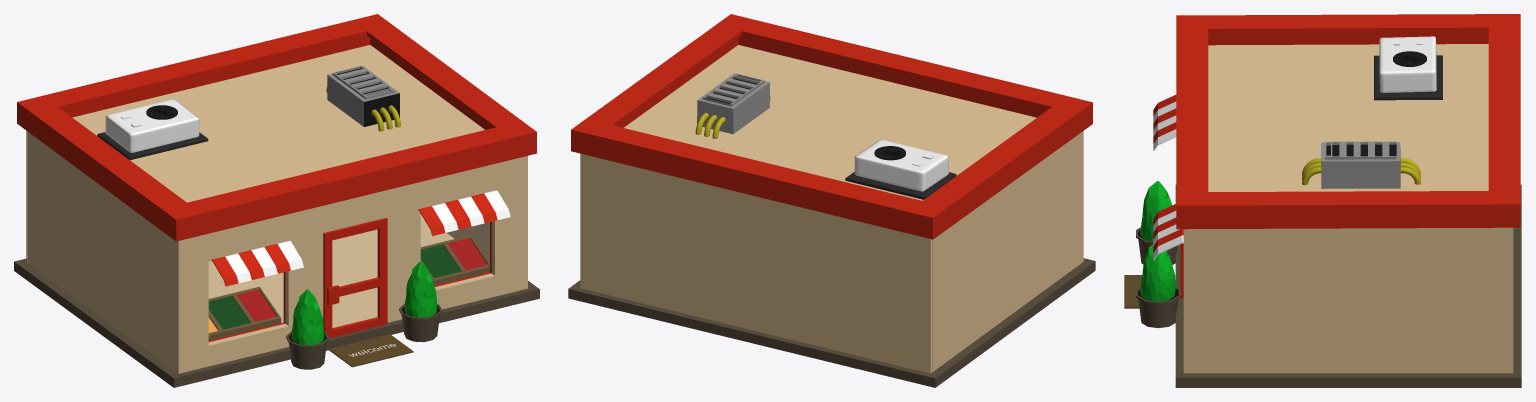
The model's file is Market.fbx.
3 renders of one model, left to right at view 1: azimuth 30°, elevation 25°; view 2: azimuth 150°, elevation 25°; view 3: azimuth 270°, elevation 25°, orthographic. The views are drawn at different scales.
Parts seen in each view (by area): view 1: Box001, Box002, Box004, Box013, Box012, Box009, Box008, Box011, Box010, GeoSphere001, GeoSphere002, Cylinder002 (+2 smaller); view 2: Box001, Box002, Box004, Box013, Box003; view 3: Box001, Box002, Box013, Box004, GeoSphere001, Box008, Cylinder002, Box003, Box009, GeoSphere002, Box010, Cylinder001 (+1 smaller).
Part boxes in pixels (x1,y1,x2,y2): Box001: (17,14,536,373); Box002: (14,214,539,387); Box004: (105,99,199,152); Box013: (327,66,399,126); Box012: (208,286,281,340); Box009: (211,240,303,286); Box008: (418,190,510,235); Box011: (420,235,489,285); Box010: (328,334,413,367); GeoSphere001: (404,261,437,317); GeoSphere002: (291,289,324,345); Cylinder002: (399,303,442,342); Box001: (571,14,1092,373); Box002: (568,258,1095,387); Box004: (854,139,948,191); Box013: (697,73,769,134); Box003: (845,172,956,199); Box001: (1176,14,1520,373); Box002: (1175,184,1521,387); Box013: (1321,141,1400,188); Box004: (1379,36,1436,92); GeoSphere001: (1140,244,1175,301); Box008: (1153,204,1183,259); Cylinder002: (1136,287,1180,328); Box003: (1374,55,1442,100); Box009: (1153,95,1176,150); GeoSphere002: (1140,181,1171,241); Box010: (1124,275,1175,308); Cylinder001: (1393,51,1426,66).
Bounding box in the file's own units: 114 × 52.56 × 98.99.
